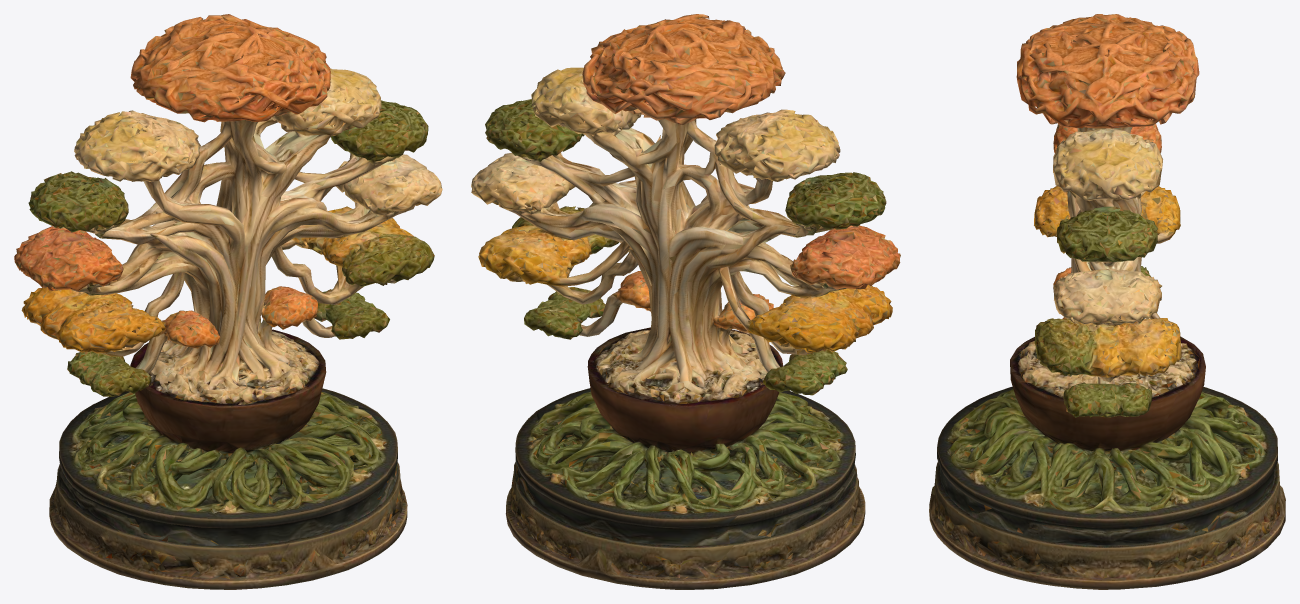
File: Noodle_Tree_of_Life.glb
3 renders of one model, left to right at view 1: azimuth 30°, elevation 25°; view 2: azimuth 150°, elevation 25°; view 3: azimuth 270°, elevation 25°, orthographic.
Parts seen in each view (by area): view 1: Noodle_Tree_of_Life; view 2: Noodle_Tree_of_Life; view 3: Noodle_Tree_of_Life.
Boxes of the visible parts, x1,y1,x2,y2 form: Noodle_Tree_of_Life: [14, 14, 442, 589]; Noodle_Tree_of_Life: [471, 14, 900, 589]; Noodle_Tree_of_Life: [929, 14, 1285, 589].
Size of the model in its own units: 1.67 by 1.9 by 1.26.
Materials: 1 (1 with a texture image).
